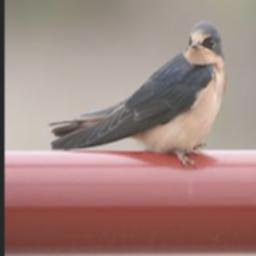Swallow: (47, 15, 226, 176)
